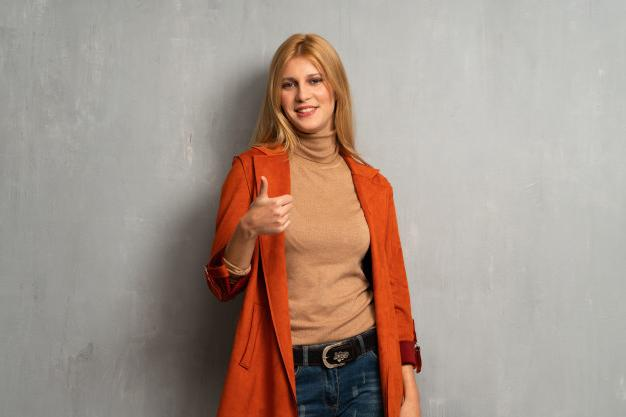thumbsup: (259, 175, 293, 234)
